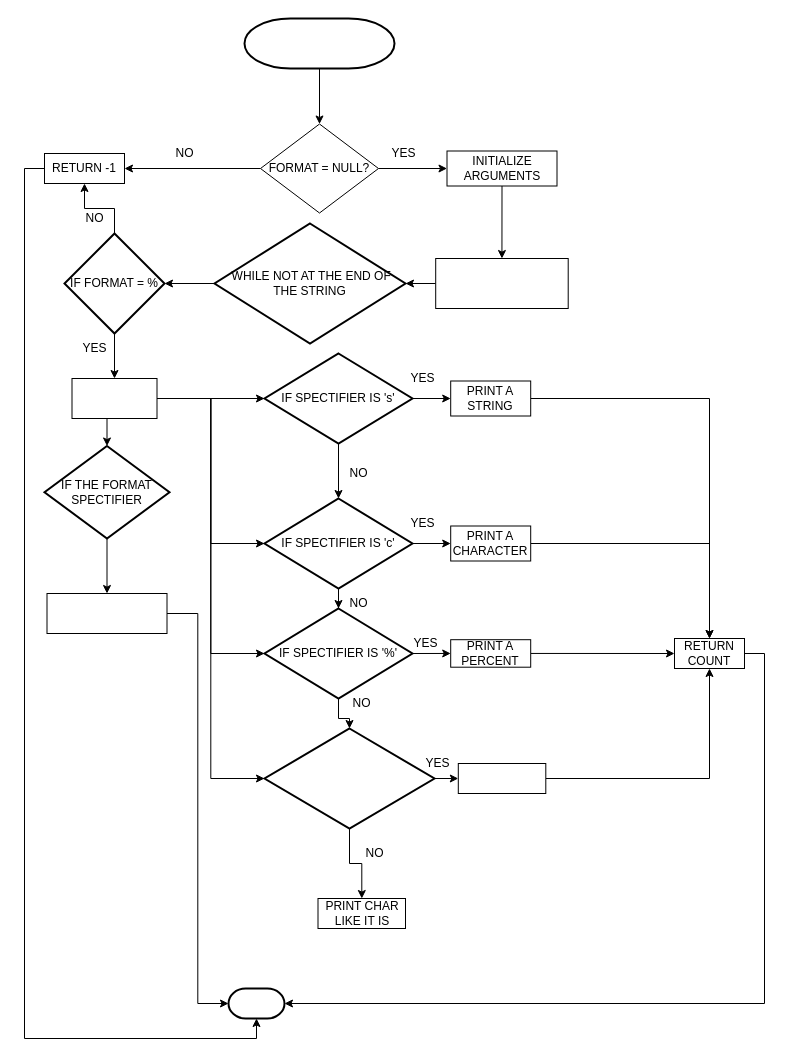
This 790x1064 diagram has some shape labels left out. The box of each missing label's shape, as (x1, y1, x2, y2) in pixels:
END: (227, 987, 285, 1019)
IF SPECTIFIER IS 'i' OR 'd': (263, 727, 435, 829)
ITERATE EACH CHARACTER OF FORMAT: (435, 258, 568, 308)
PRINT A INTERGER: (457, 762, 546, 794)
PRINT THE INVALID CHARACTER: (46, 592, 167, 634)
READ THE NEXT CHARACTER: (71, 378, 157, 418)
START _PRINTF: (243, 17, 395, 69)
